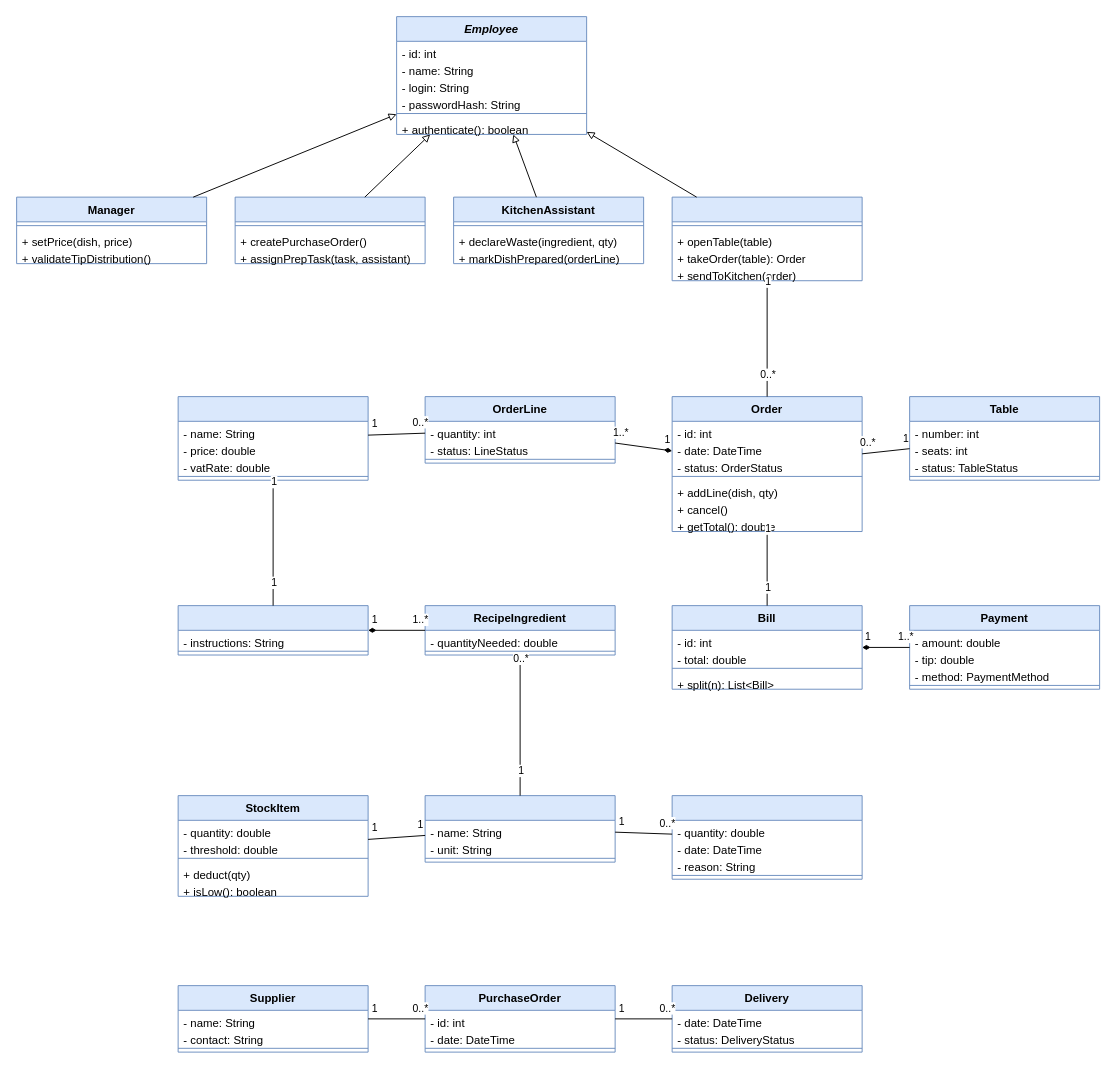
Image size: 1116x1069. Some labels were removed from this diagram. The box of each missing label's shape, as (x1, y1, x2, y2) in pixels:
Dish: (177, 396, 368, 480)
HeadChef: (234, 196, 425, 264)
Ingredient: (424, 795, 615, 862)
Recipe: (177, 605, 368, 655)
Server: (671, 196, 862, 281)
Waste: (671, 795, 862, 879)
